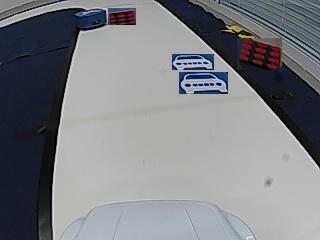prop: (75, 9, 107, 30)
